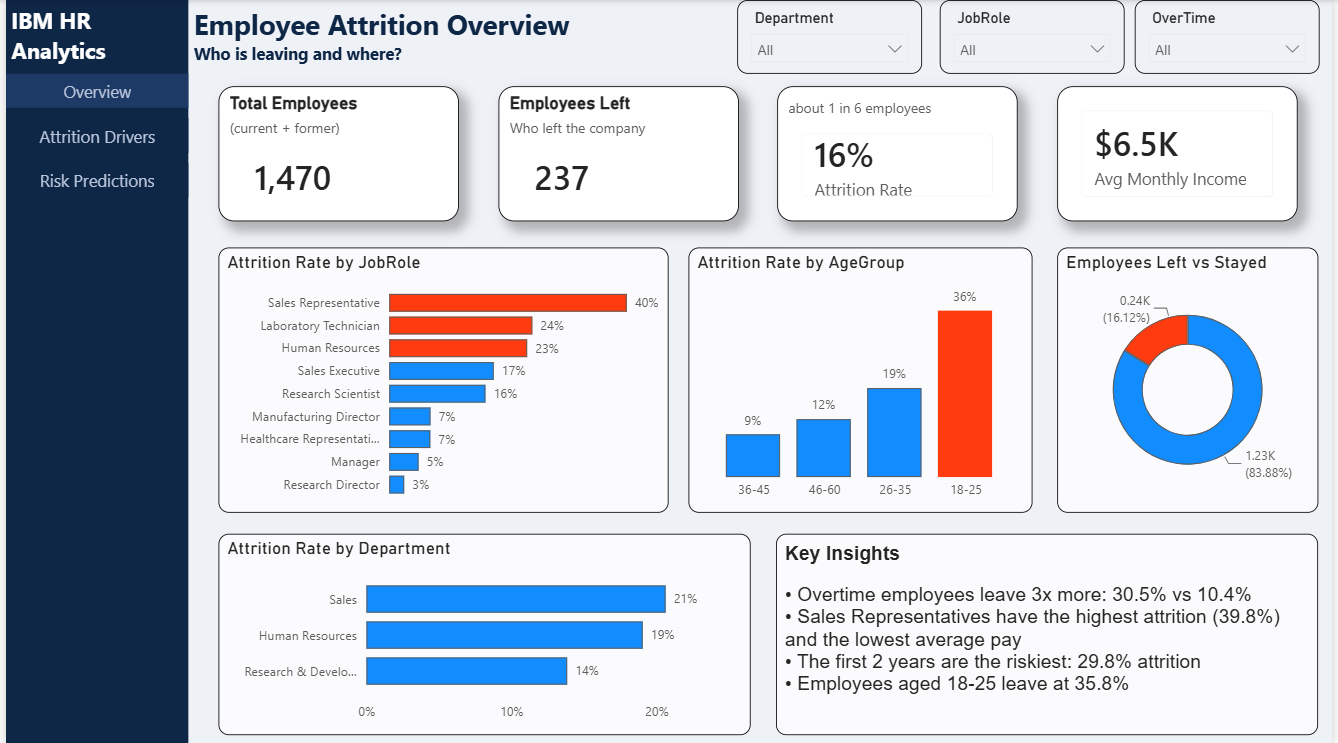

Layout of this report page (visuals, bound fields, positions):
{"tool":"powerbi","page":{"name":"Overview","canvas":[1280,720],"ordinal":0},"visuals":[{"type":"shape","box":[0,0,176,720.2],"z":0},{"type":"textbox","box":[0,0,176.1,71.2],"z":1000},{"type":"pageNavigator","box":[0,71.2,176.1,120.6],"z":2000},{"type":"textbox","box":[176.1,0,1103.9,71.2],"z":3000},{"type":"cardVisual","title":"Total Employees ","fields":{"Data":["public hr_predictions.Total Employees"]},"box":[205.1,83.2,231.6,130.3],"z":4000},{"type":"cardVisual","fields":{"Data":["public hr_predictions.Attrition Rate"]},"box":[744.8,83.2,231.6,130.3],"z":5000},{"type":"cardVisual","title":"Employees Left","fields":{"Data":["public hr_predictions.Employees Left"]},"box":[474.9,83.2,231.6,130.3],"z":6000},{"type":"cardVisual","fields":{"Data":["public hr_predictions.Avg Monthly Income"]},"box":[1014.6,83.2,231.6,130.3],"z":7000},{"type":"barChart","fields":{"Category":["public ibm_hr_project.JobRole"],"Y":["public hr_predictions.Attrition Rate"]},"box":[205.1,238.9,434.3,255.8],"z":8000},{"type":"clusteredColumnChart","fields":{"Category":["public ibm_hr_project.AgeGroup"],"Y":["public hr_predictions.Attrition Rate"]},"box":[658.7,238.9,331.8,255.8],"z":9000},{"type":"donutChart","title":"Employees Left vs Stayed","fields":{"Category":["public ibm_hr_project.Attrition"],"Y":["CountNonNull(public hr_predictions.EmployeeNumber)"]},"box":[1014.6,238.9,252.1,255.8],"z":10000},{"type":"clusteredBarChart","fields":{"Category":["public ibm_hr_project.Department"],"Y":["public hr_predictions.Attrition Rate"]},"box":[205.1,515.2,513.9,194.2],"z":11000},{"type":"textbox","box":[743.2,515.2,523.6,194.2],"z":12000},{"type":"slicer","fields":{"Values":["public ibm_hr_project.Department"]},"box":[705.7,0,178.5,71.1],"z":13000},{"type":"slicer","fields":{"Values":["public ibm_hr_project.OverTime"]},"box":[1089.2,0,178.5,71.1],"z":14000},{"type":"slicer","fields":{"Values":["public ibm_hr_project.JobRole"]},"box":[900.9,0,178.5,71.1],"z":15000}]}

Visuals, with their boxes in screenshot pixels (x1, y1, x2, y2), scaled from the page's 1280x720 canvas onto the 1338x743 screenshot:
shape: 0/0/184/742
textbox: 0/0/184/73
pageNavigator: 0/73/184/198
textbox: 184/0/1337/73
"Total Employees " cardVisual: 214/86/456/220
cardVisual - public hr_predictions.Attrition Rate: 779/86/1021/220
"Employees Left" cardVisual: 496/86/739/220
cardVisual - public hr_predictions.Avg Monthly Income: 1061/86/1303/220
barChart - public ibm_hr_project.JobRole x public hr_predictions.Attrition Rate: 214/247/668/511
clusteredColumnChart - public ibm_hr_project.AgeGroup x public hr_predictions.Attrition Rate: 689/247/1035/511
"Employees Left vs Stayed" donutChart: 1061/247/1324/511
clusteredBarChart - public ibm_hr_project.Department x public hr_predictions.Attrition Rate: 214/532/752/732
textbox: 777/532/1324/732
slicer - public ibm_hr_project.Department: 738/0/924/73
slicer - public ibm_hr_project.OverTime: 1139/0/1325/73
slicer - public ibm_hr_project.JobRole: 942/0/1128/73
